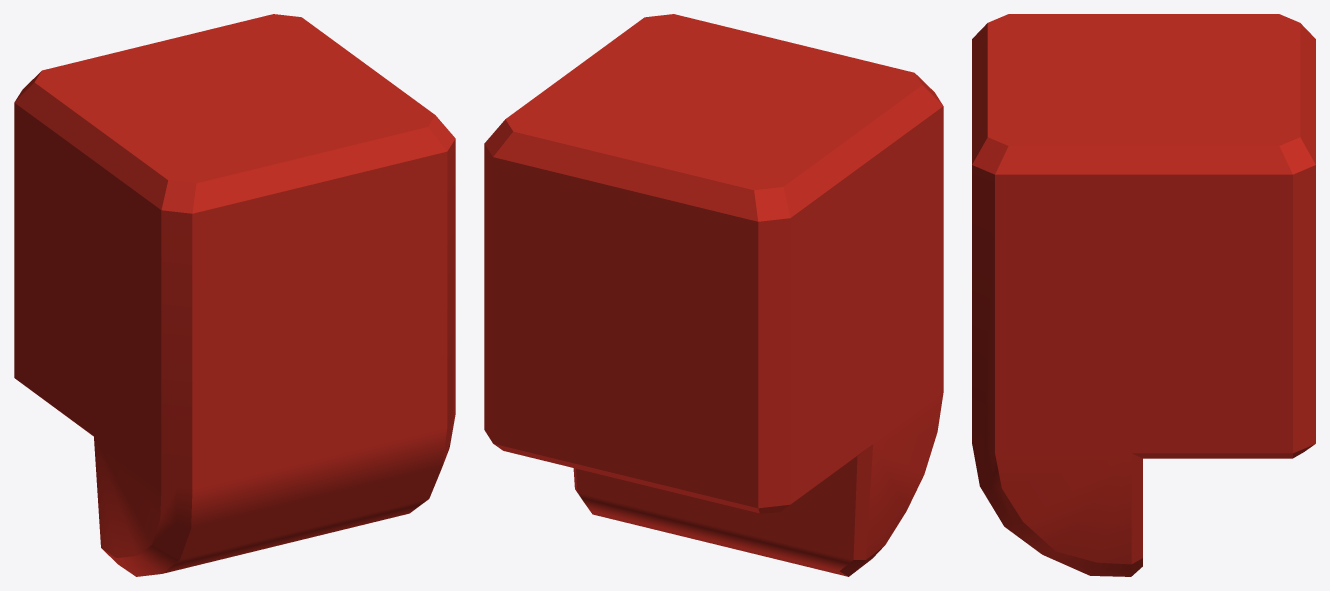
The model's file is armup.obj.
3 views of the same model, side by side, from view 1: azimuth 30°, elevation 25°; view 2: azimuth 150°, elevation 25°; view 3: azimuth 270°, elevation 25° (orthographic). The views are drawn at different scales.
Parts seen in each view (by area): view 1: Onett10; view 2: Onett10; view 3: Onett10.
Boxes of the visible parts, x1,y1,x2,y2 form: Onett10: (14,14,455,576); Onett10: (484,14,943,576); Onett10: (972,14,1315,576).
Size of the model in its own units: 1 by 1.4 by 1.
Materials: 1 (1 with a texture image).
